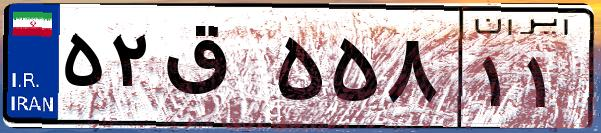1: (475, 38, 525, 113), (525, 38, 570, 115)
2: (110, 28, 158, 98)
5: (270, 28, 330, 110), (330, 28, 385, 110), (57, 26, 110, 100)
8: (385, 28, 445, 110)
ق: (158, 20, 270, 120)
